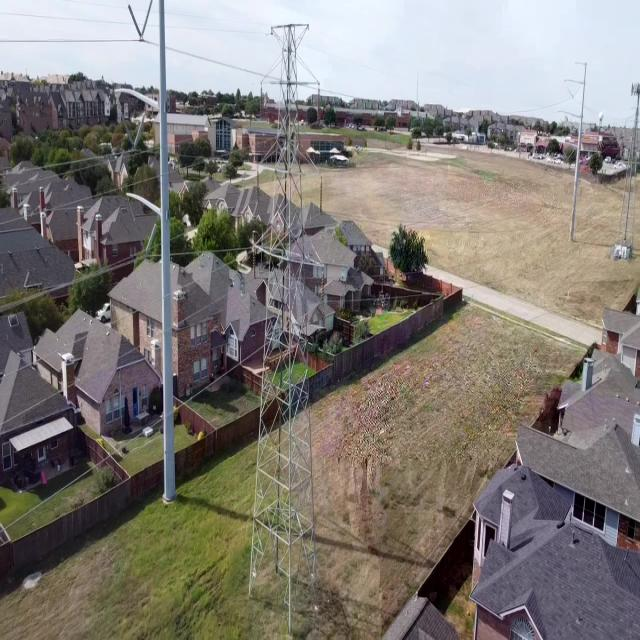杆塔: (241, 21, 335, 640)
正常绝缘子: (137, 0, 156, 42), (125, 1, 144, 42), (119, 109, 137, 148), (131, 215, 148, 255), (132, 111, 146, 151), (145, 221, 159, 257), (318, 266, 327, 306), (258, 80, 265, 121), (316, 80, 322, 126), (318, 174, 324, 217), (255, 163, 261, 200), (252, 244, 257, 282)
